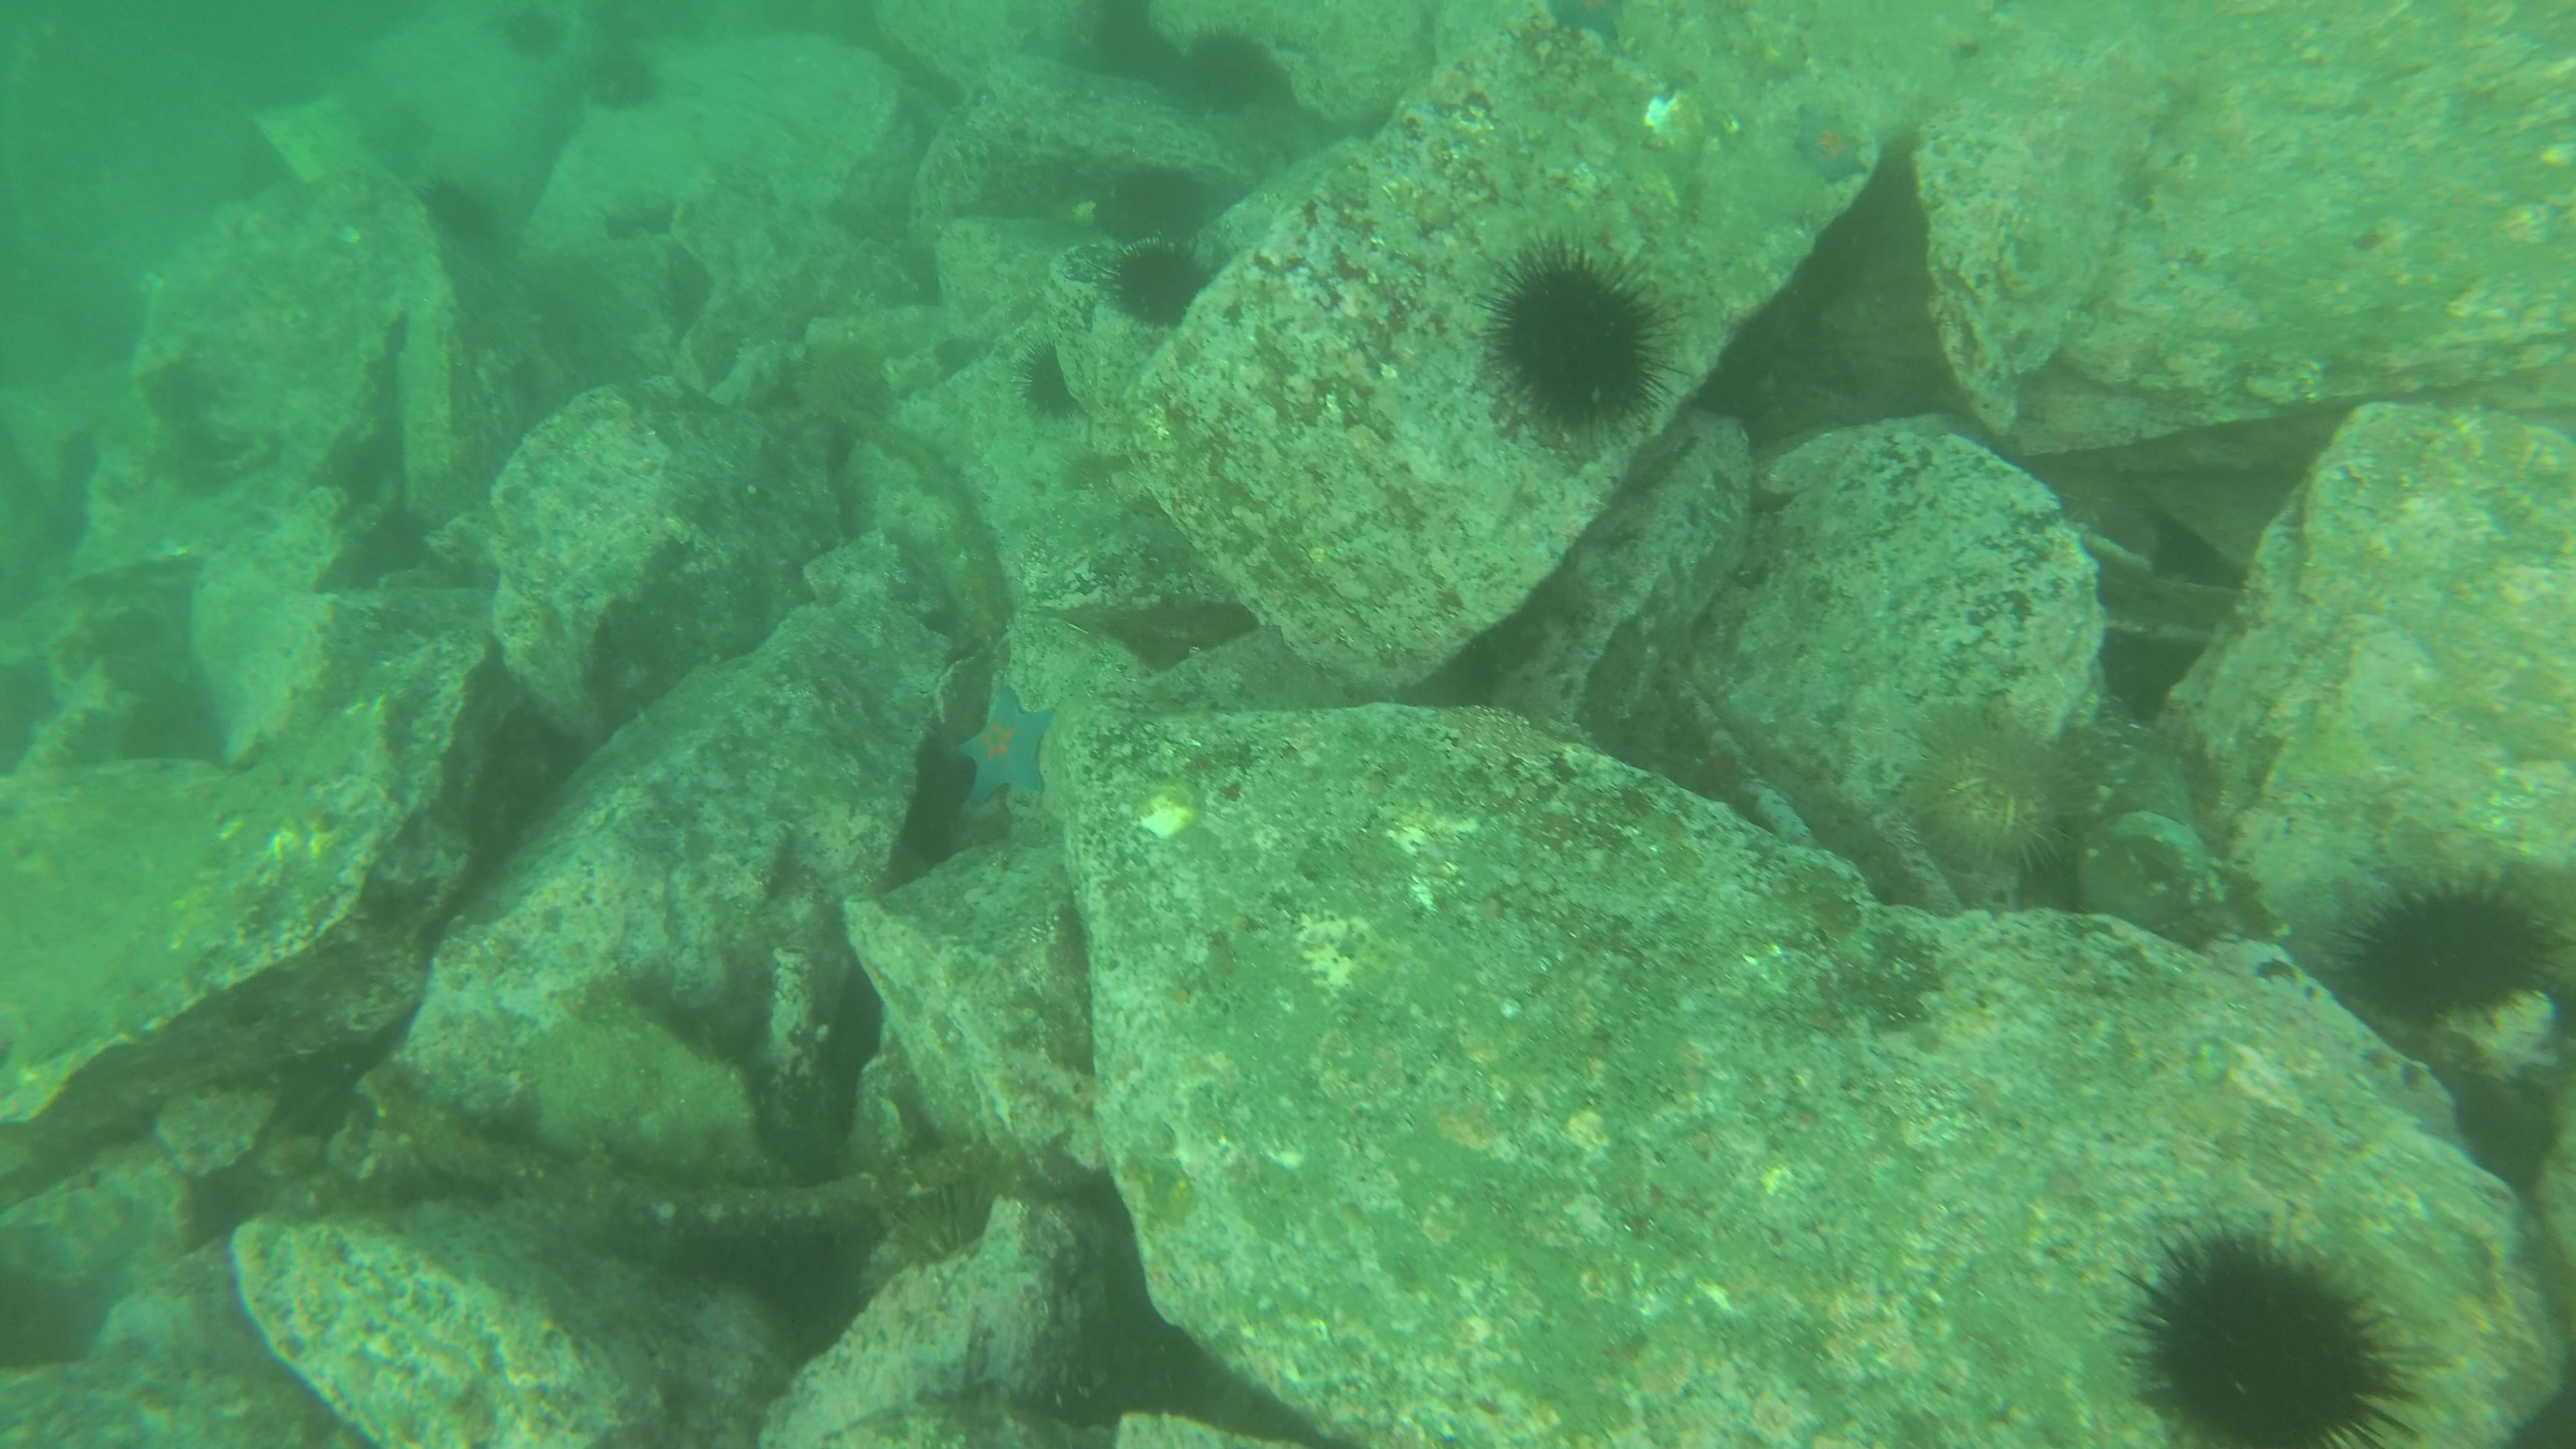echinus: (2143, 1235, 2411, 1449), (1490, 255, 1672, 414), (2362, 878, 2558, 1024), (1920, 722, 2077, 869), (1113, 244, 1208, 331), (1109, 165, 1207, 234)
starfish: (950, 686, 1060, 816)
